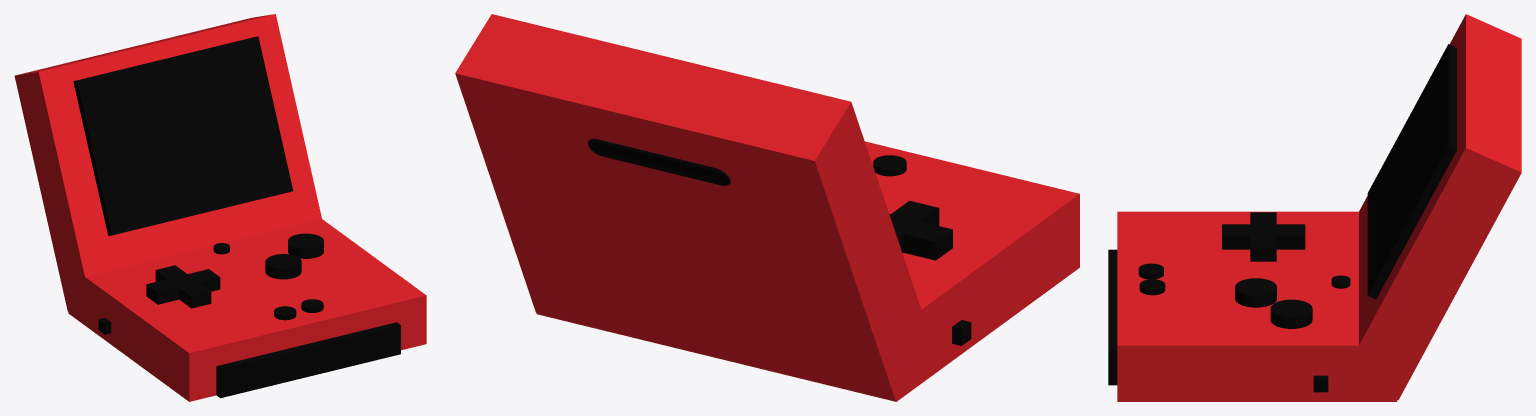
The model's file is gameboy.fbx.
3 renders of one model, left to right at view 1: azimuth 30°, elevation 25°; view 2: azimuth 150°, elevation 25°; view 3: azimuth 270°, elevation 25°, orthographic. The views are drawn at different scales.
Visible parts, largest first — view 1: root (×8); view 2: root (×6); view 3: root (×10).
Part boxes in pixels (x1,y1,x2,y2): root (×8): (14,14,426,401); root (×6): (455,14,1079,401); root (×10): (1108,14,1521,401).
Size of the model in its own units: 0.3829 by 0.3218 by 0.4747.
